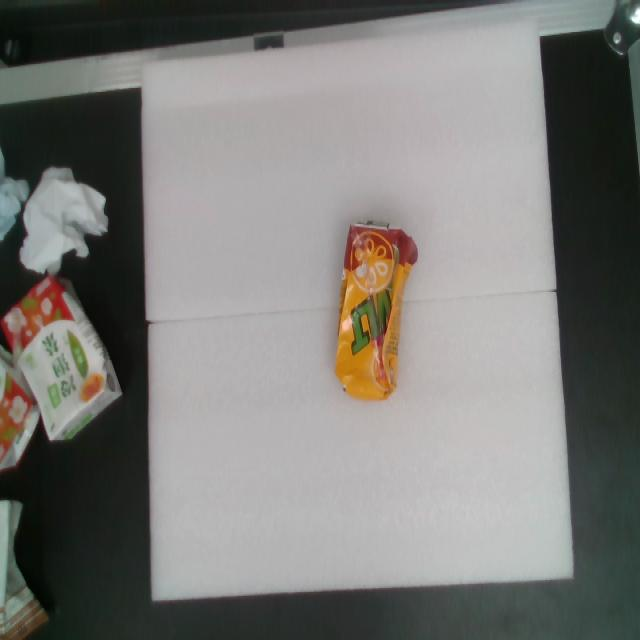juicebox: (0, 244, 151, 464), (311, 201, 432, 418)
